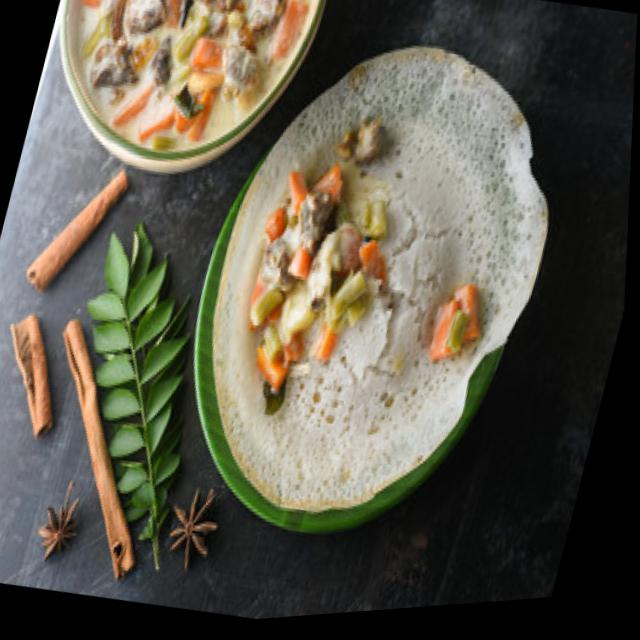AAPAM: (195, 47, 548, 528)
CURRY: (69, 0, 314, 141)
